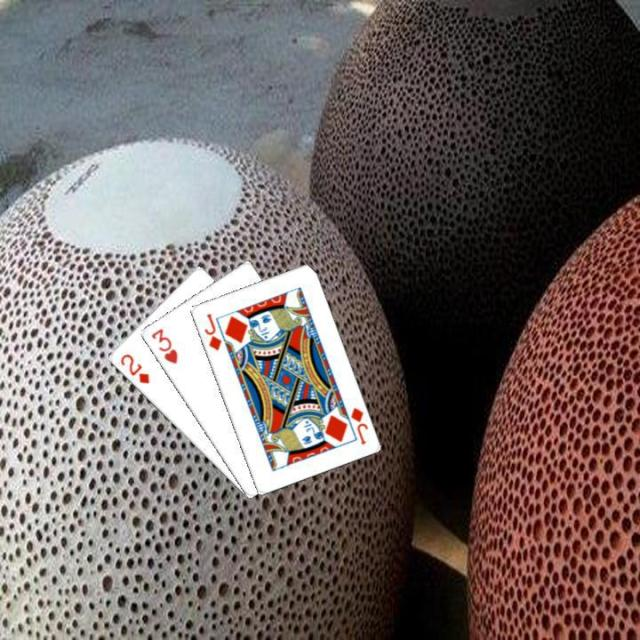2D: (117, 349, 151, 386)
3H: (146, 324, 180, 366)
JD: (346, 403, 370, 446), (200, 309, 223, 352)
